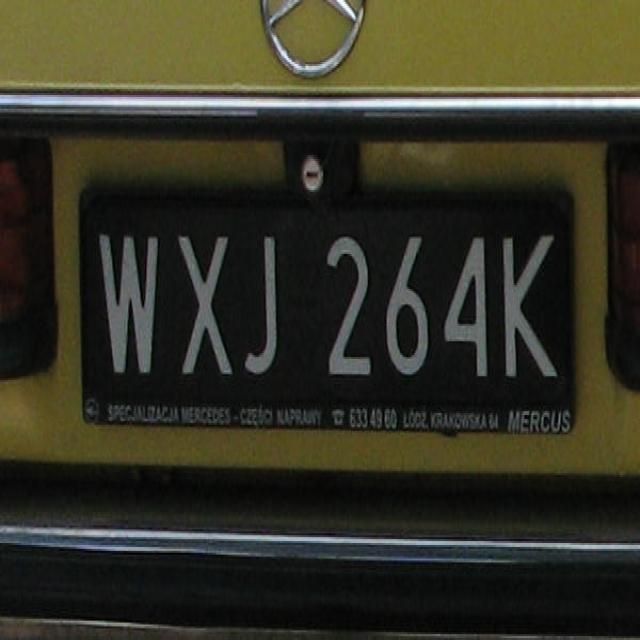pl_license_plate: (79, 198, 571, 405)
